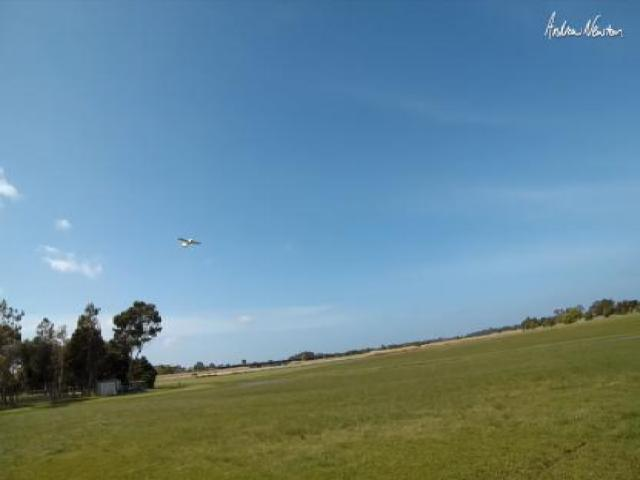uav: (176, 232, 202, 251)
